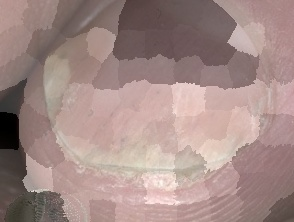Nail_psoriasis: (28, 0, 292, 212)
